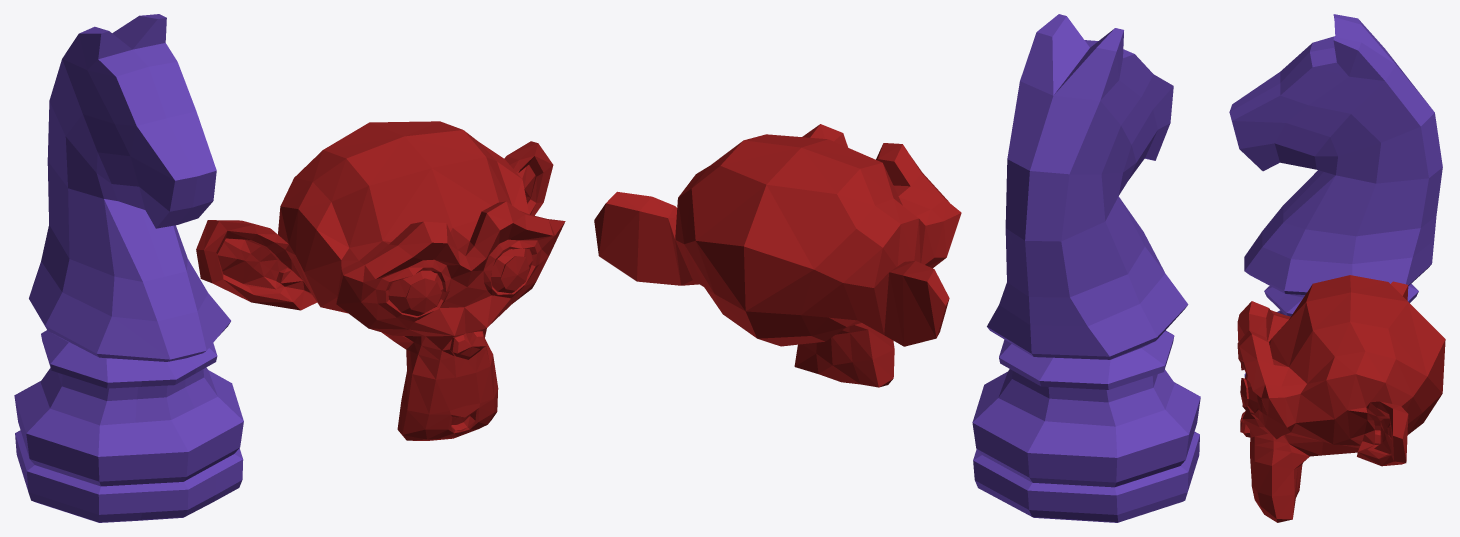
The picture shows the model from 3 angles, left to right: view 1: azimuth 30°, elevation 25°; view 2: azimuth 150°, elevation 25°; view 3: azimuth 270°, elevation 25°; orthographic projection. The views are drawn at different scales.
Parts seen in each view (by area): view 1: Knight, Suzanne; view 2: Knight, Suzanne; view 3: Knight, Suzanne.
Part boxes in pixels (<box>): Knight: <box>14,14,243,522</box>; Suzanne: <box>196,121,565,440</box>; Knight: <box>972,14,1200,522</box>; Suzanne: <box>594,124,961,387</box>; Knight: <box>1229,14,1442,377</box>; Suzanne: <box>1237,275,1445,522</box>.
Size of the model in its own units: 4.34 by 3.37 by 1.77.
